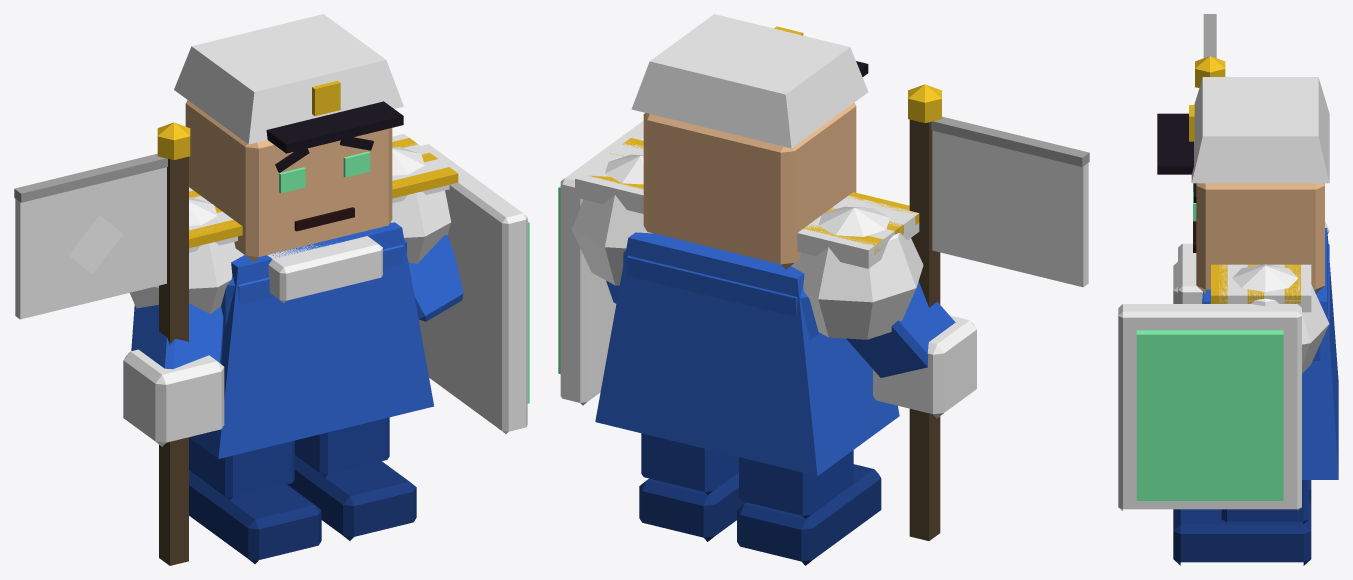
Rendered from r9_mini_station_commander.glb.
3 renders of one model, left to right at view 1: azimuth 30°, elevation 25°; view 2: azimuth 150°, elevation 25°; view 3: azimuth 270°, elevation 25°, orthographic. The views are drawn at different scales.
Visible parts, largest first — view 1: r9_mini_station_commander_mesh; view 2: r9_mini_station_commander_mesh; view 3: r9_mini_station_commander_mesh.
Boxes of the visible parts, box(x1,y1,x2,y2) form: r9_mini_station_commander_mesh: box(14, 14, 529, 565); r9_mini_station_commander_mesh: box(558, 14, 1089, 565); r9_mini_station_commander_mesh: box(1118, 14, 1338, 565).
Size of the model in its own units: 4.93 by 4.6 by 2.16.
Materials: 1 (1 with a texture image).
